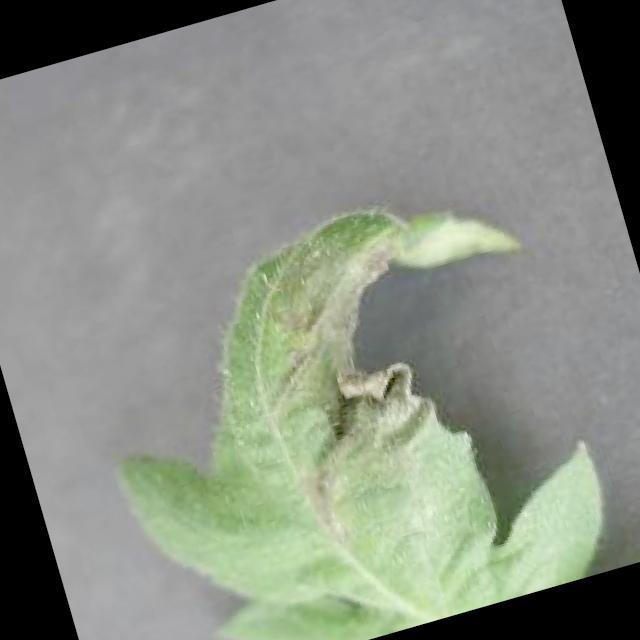Tomato late blight leaf: (58, 156, 627, 640)
